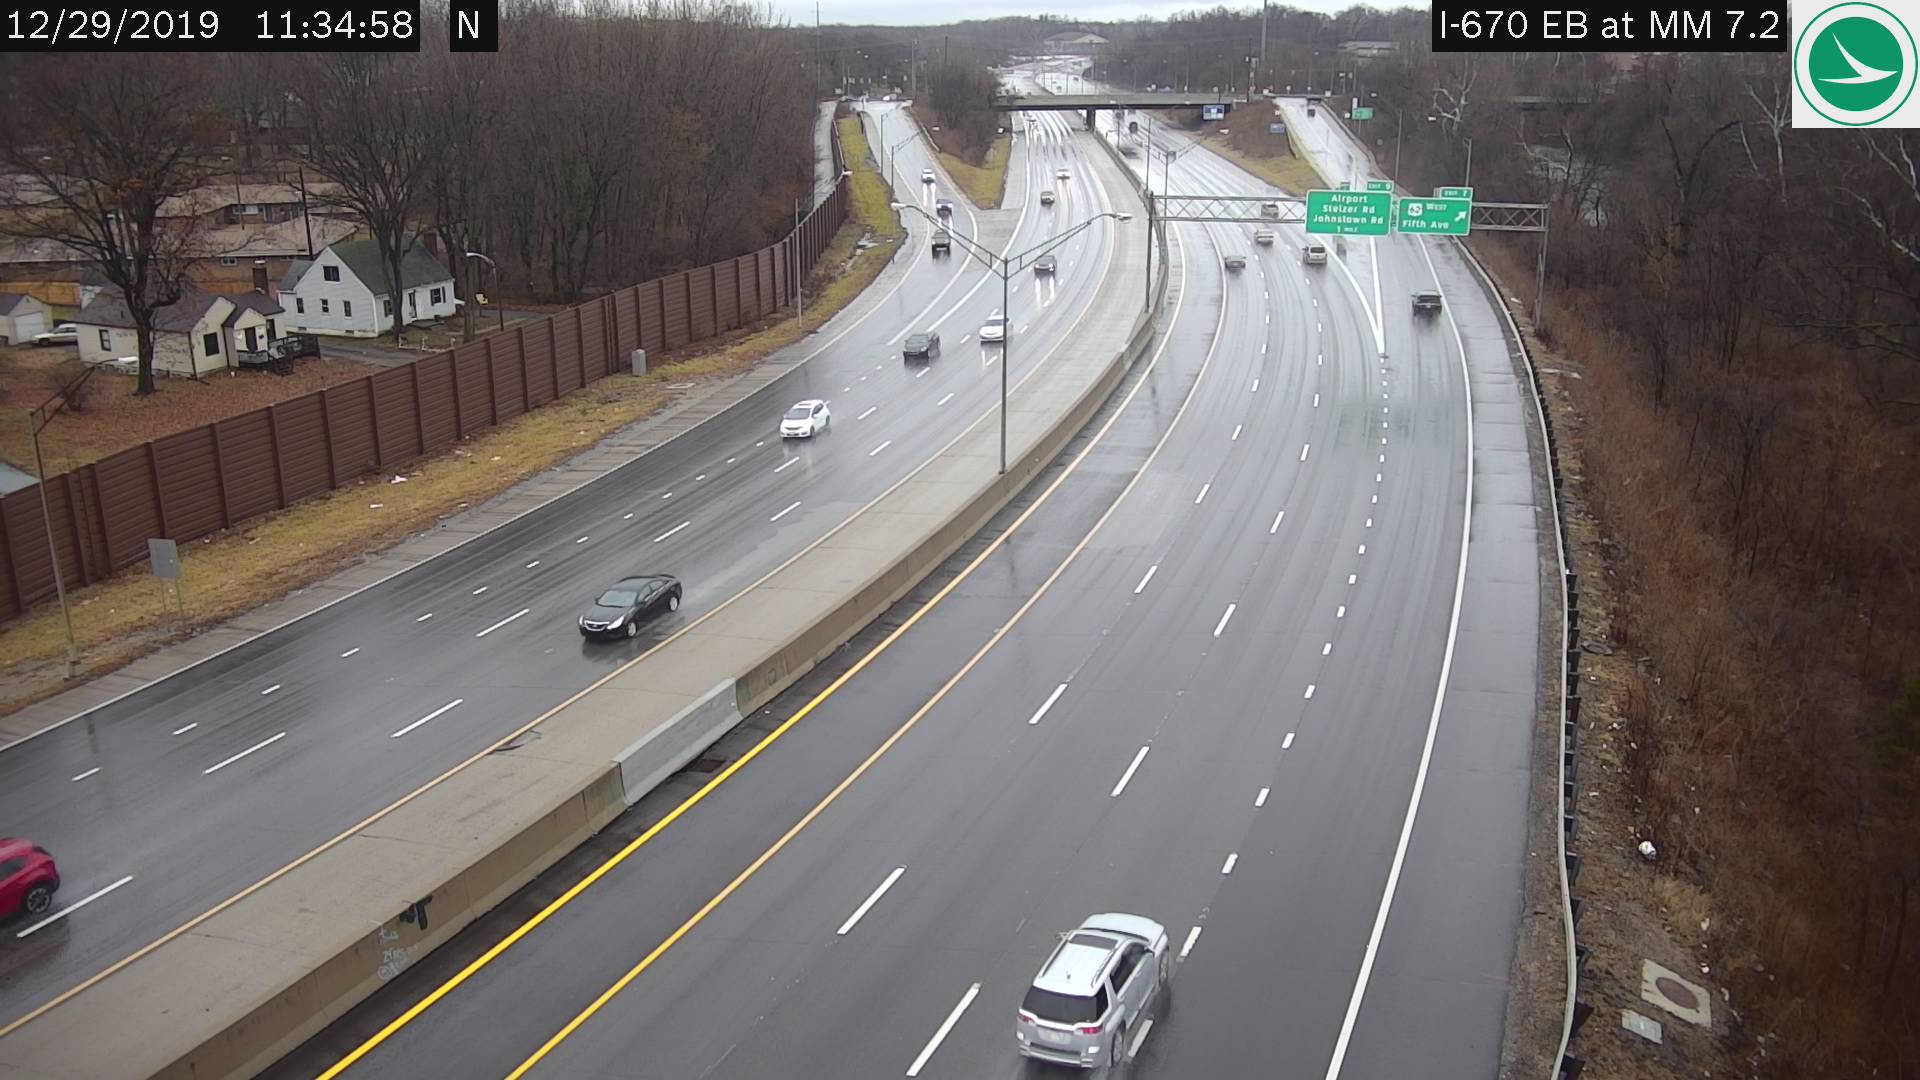car: (1018, 909, 1170, 1072), (578, 568, 682, 644), (778, 396, 825, 436), (1410, 287, 1443, 316), (903, 332, 936, 360), (978, 315, 1011, 340), (1302, 243, 1331, 260), (931, 227, 951, 251), (1033, 255, 1054, 276), (1222, 251, 1244, 270), (1253, 225, 1273, 245), (936, 196, 953, 212), (1038, 190, 1056, 204), (918, 167, 934, 182), (1261, 202, 1276, 215)
